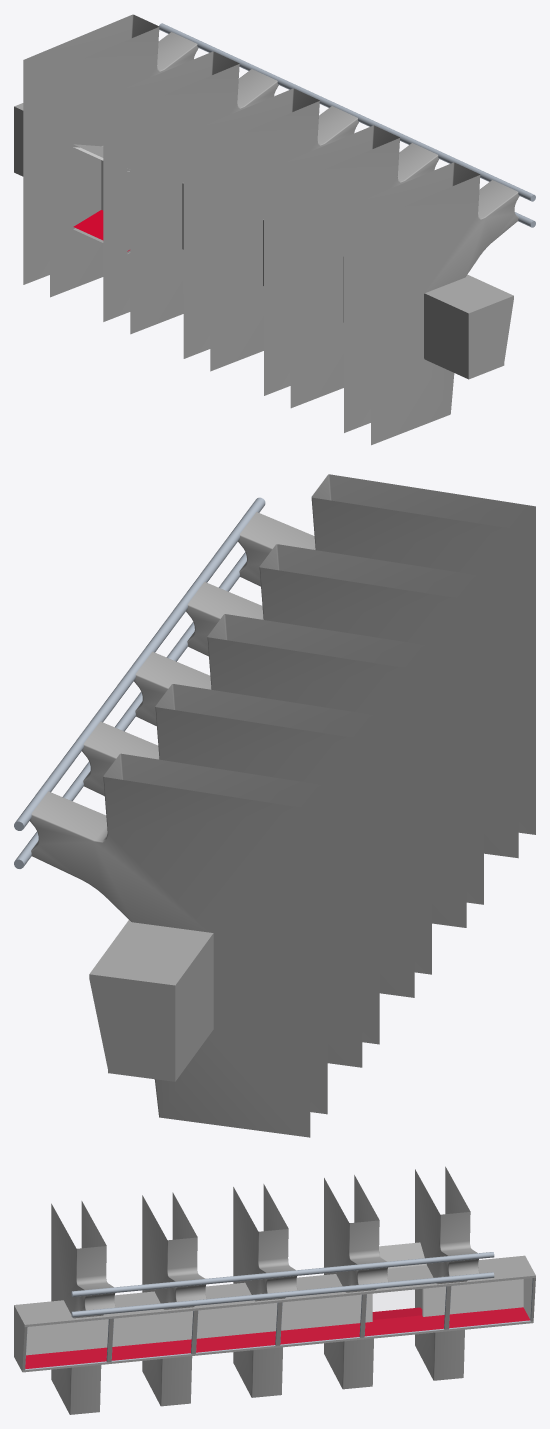
The model's file is CEON_THRUSTERS_ROOM.glb.
3 views of the same model, one above another, from view 1: azimuth 30°, elevation 25°; view 2: azimuth 150°, elevation 25°; view 3: azimuth 270°, elevation 25° (orthographic). The views are drawn at different scales.
Parts seen in each view (by area): view 1: THUSTER_ROOM; view 2: THUSTER_ROOM; view 3: THUSTER_ROOM.
Boxes of the visible parts, x1=… form: THUSTER_ROOM: x1=14, y1=14, x2=535, y2=445; THUSTER_ROOM: x1=14, y1=474, x2=535, y2=1137; THUSTER_ROOM: x1=14, y1=1166, x2=535, y2=1414.
Bounding box in the file's own units: 27.93 × 22.15 × 58.49.
